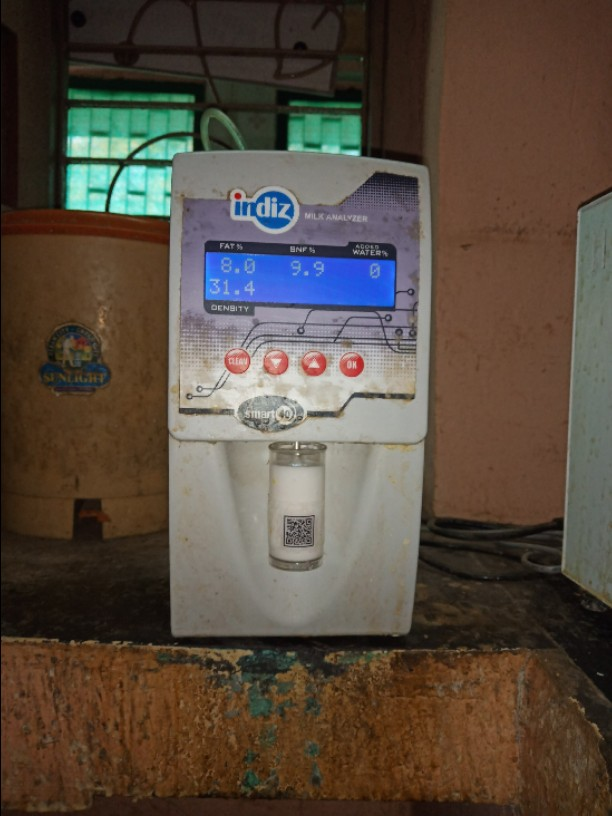lcd: (196, 245, 407, 324)
qr: (275, 511, 324, 552)
